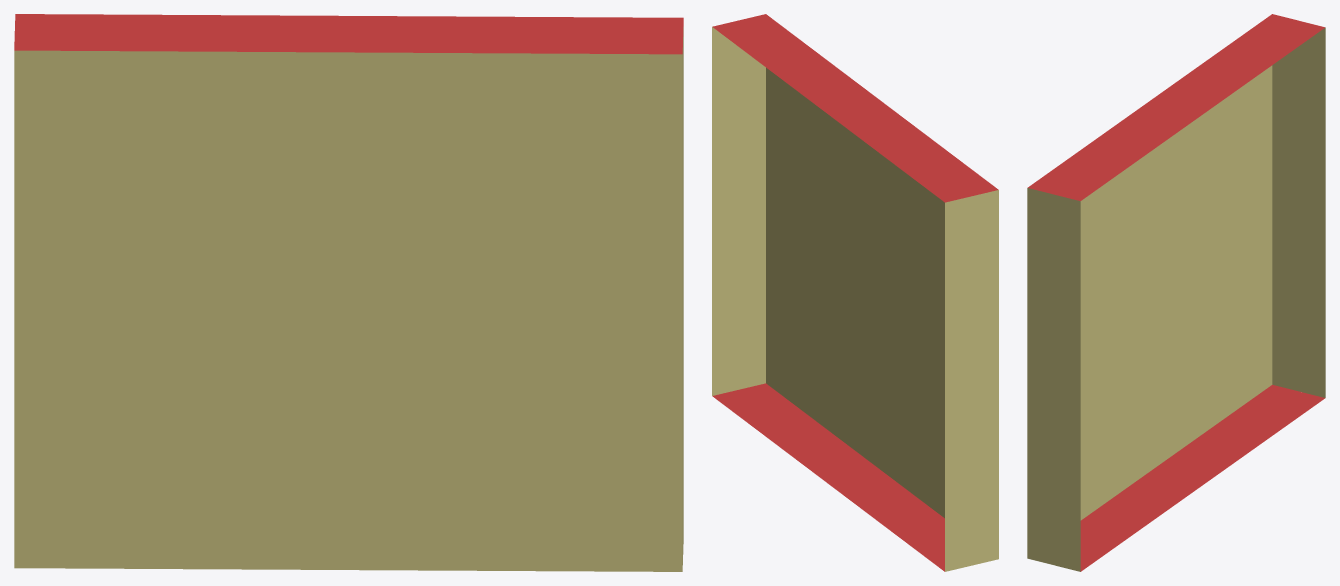
3 views of the same model, side by side, from view 1: azimuth 30°, elevation 25°; view 2: azimuth 150°, elevation 25°; view 3: azimuth 270°, elevation 25° (orthographic). The views are drawn at different scales.
Parts seen in each view (by area): view 1: group_4, group_3; view 2: group_4, group_3, group_5; view 3: group_4, group_3, group_5.
Part boxes in pixels (x1,y1,x2,y2): group_4: (14, 27, 683, 571); group_3: (14, 14, 683, 54); group_4: (712, 27, 998, 571); group_3: (712, 14, 998, 202); group_5: (712, 383, 944, 571); group_4: (1027, 27, 1325, 571); group_3: (1027, 14, 1324, 200); group_5: (1080, 385, 1325, 571).
Bounding box in the file's own units: 15.93 × 10.72 × 14.71.
